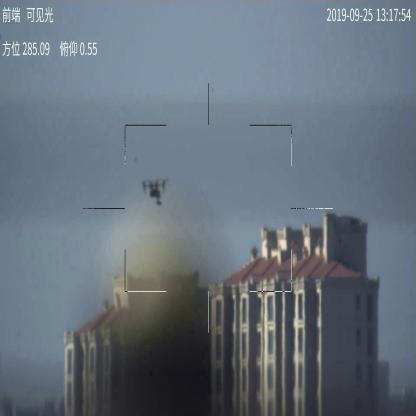uav: (140, 176, 170, 207)
